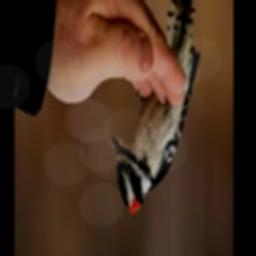Woodpecker: (111, 0, 199, 216)
